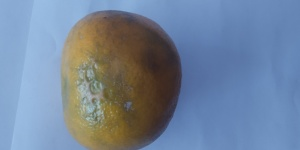BAD: (61, 10, 184, 150)
